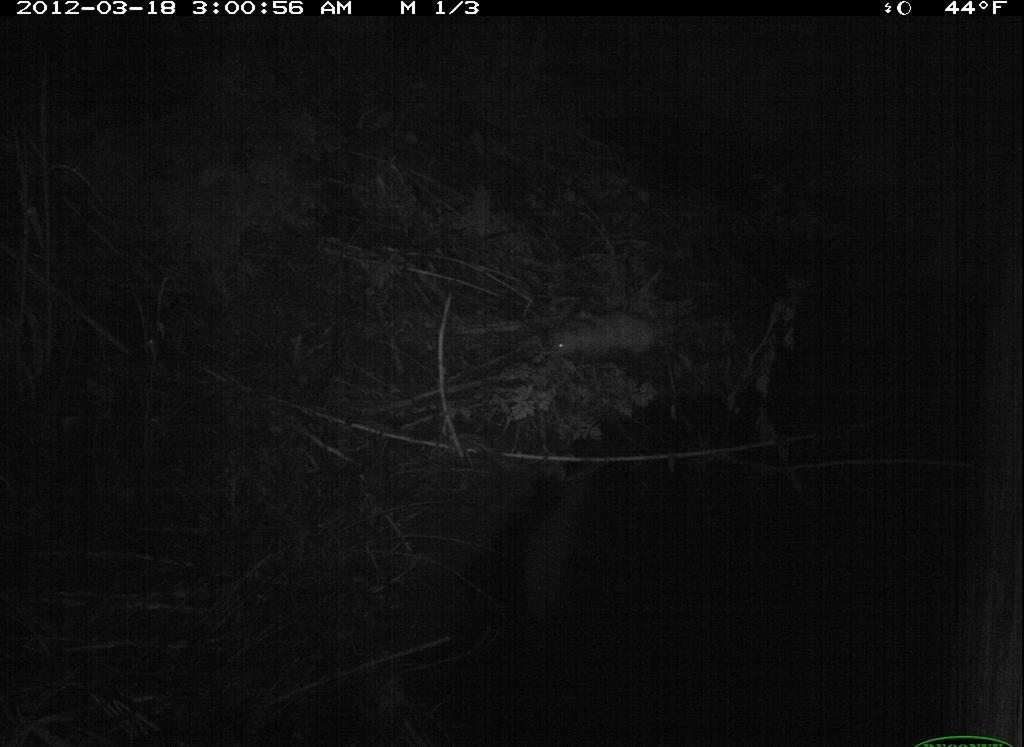opossum: (537, 299, 684, 382)
